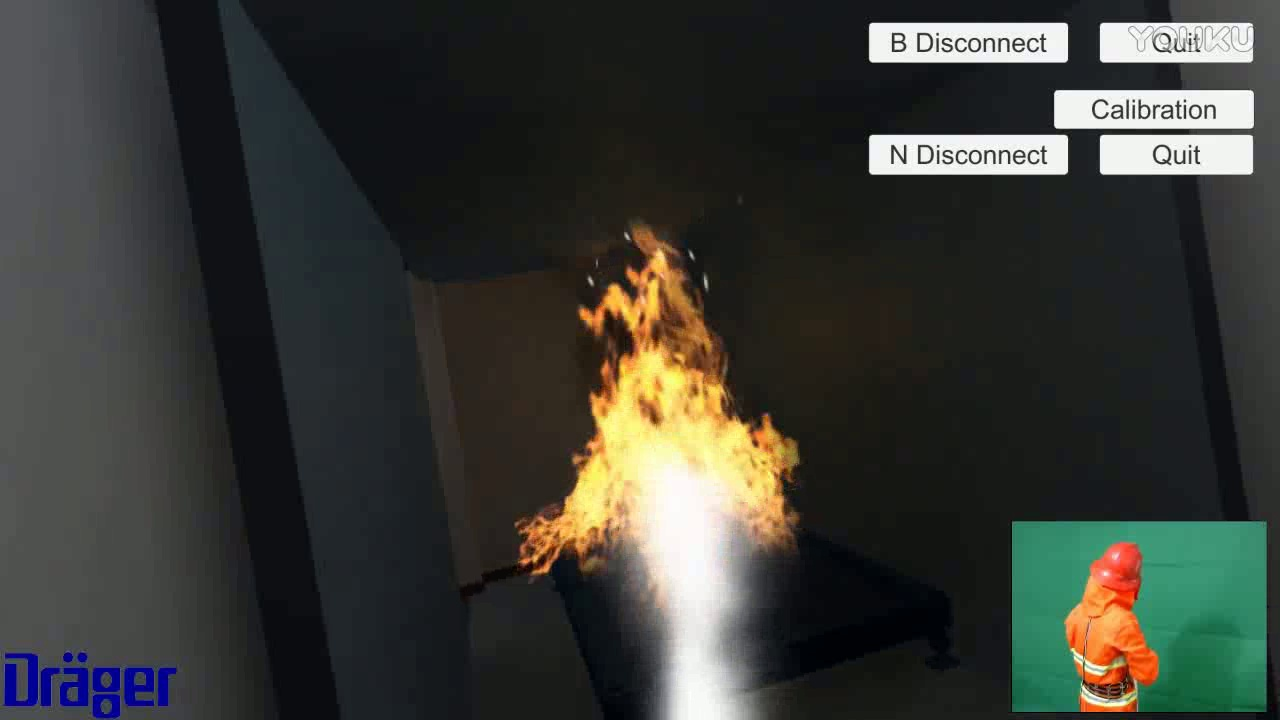fire: (513, 212, 809, 589)
